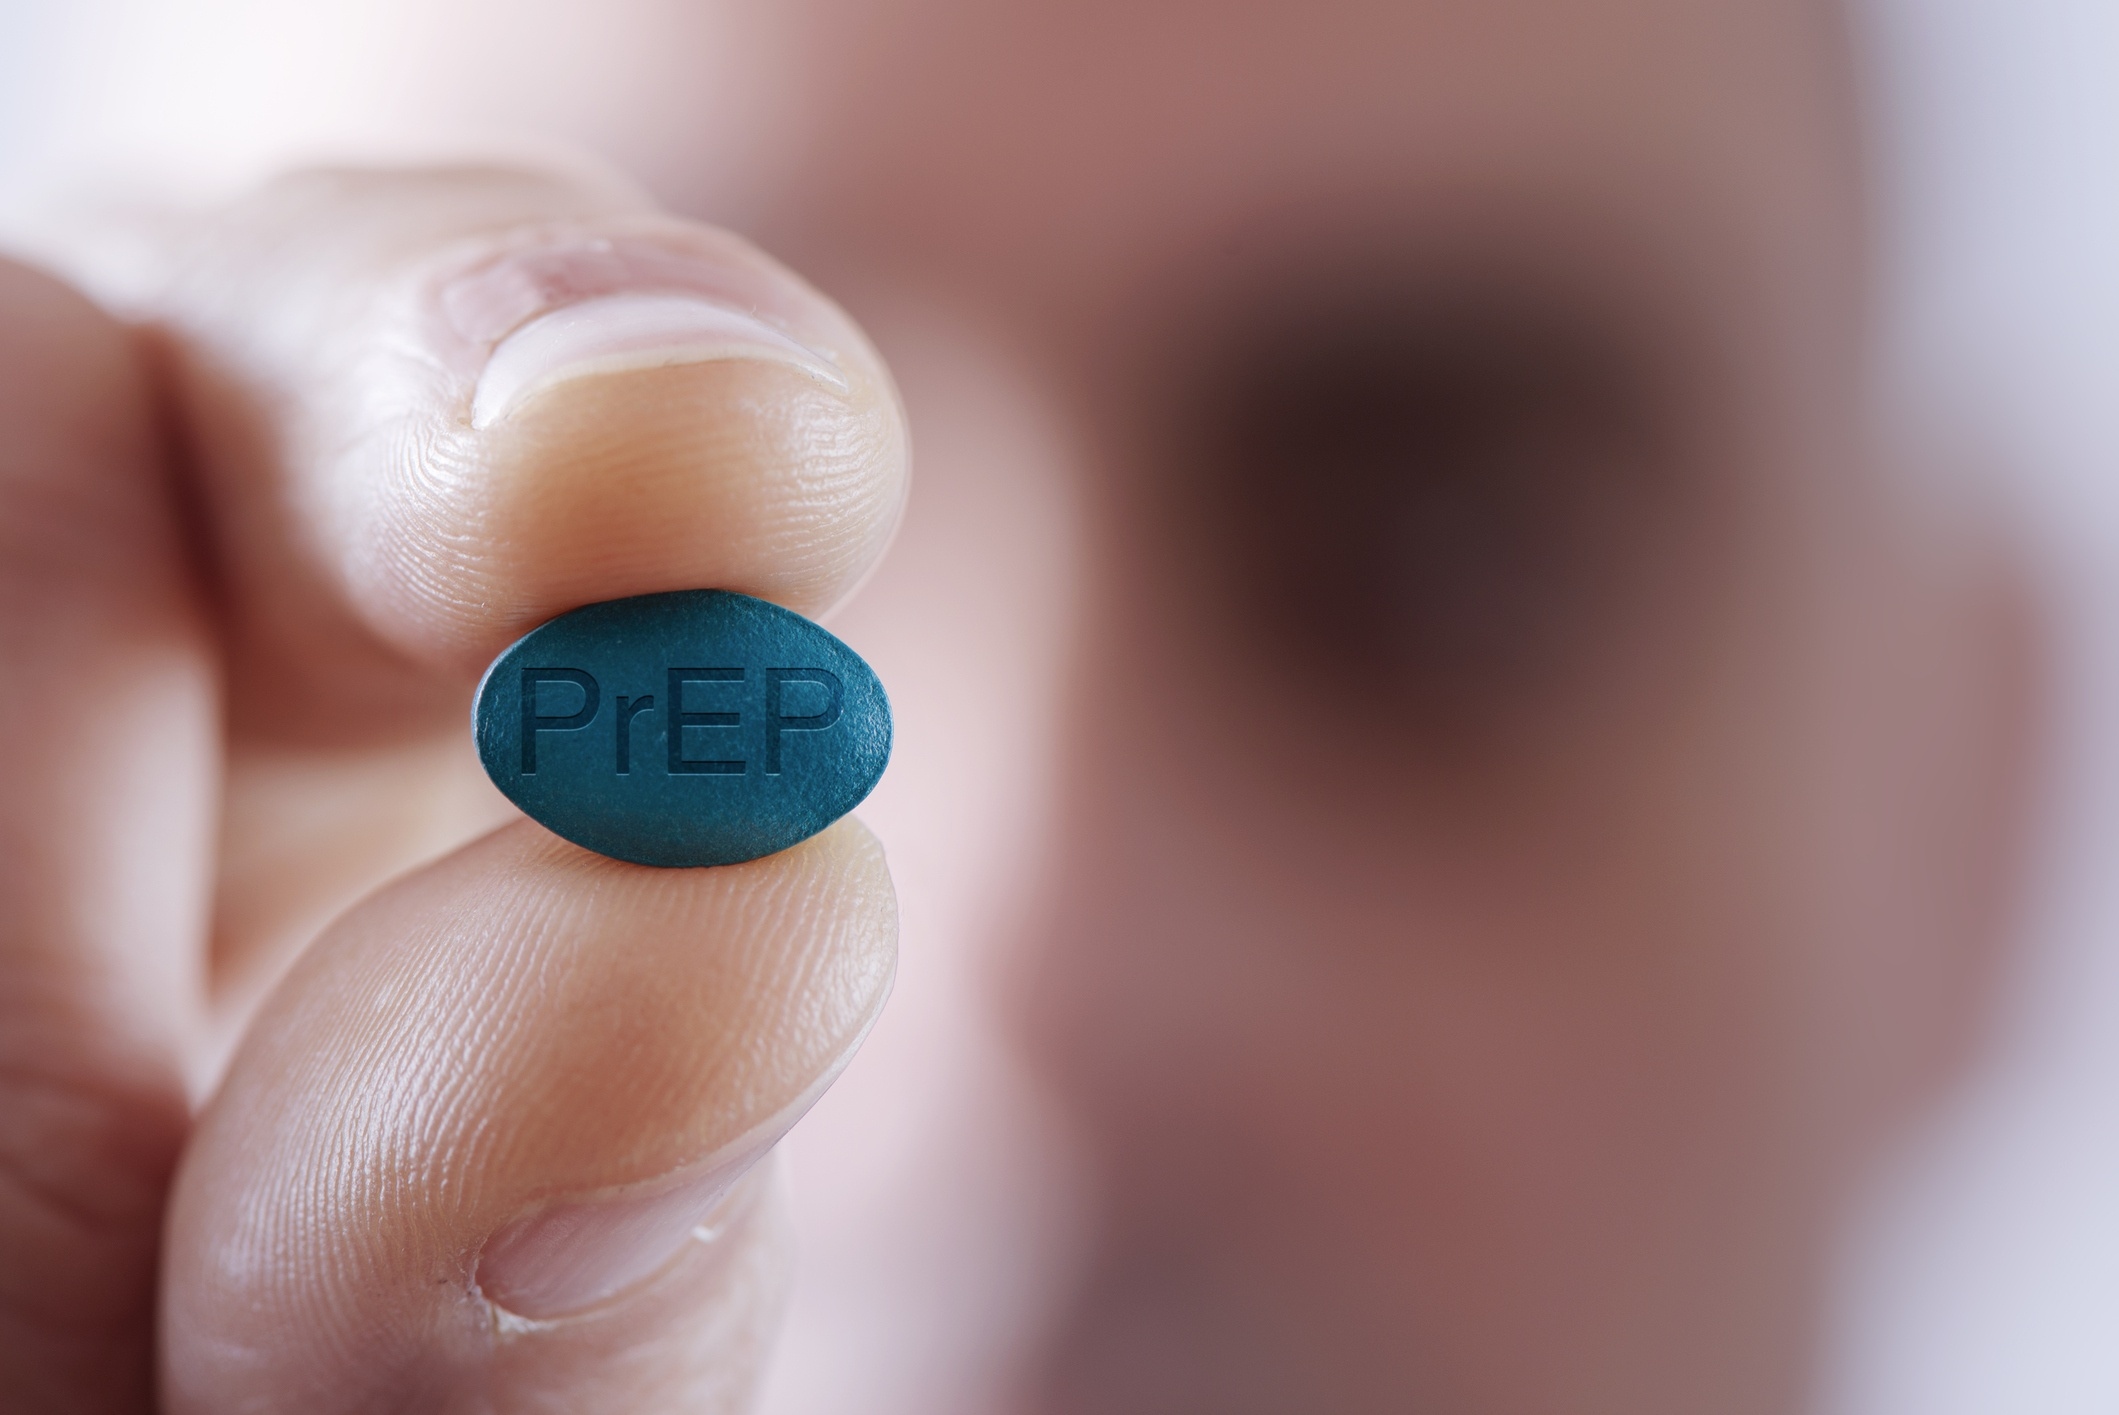pills: (474, 591, 905, 872)
